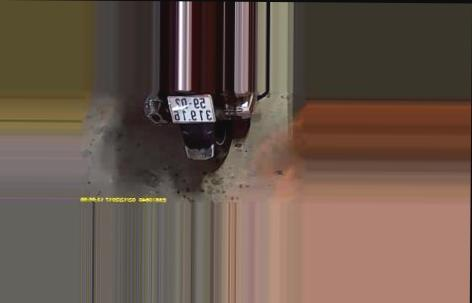License_Plate: (170, 91, 215, 126)
